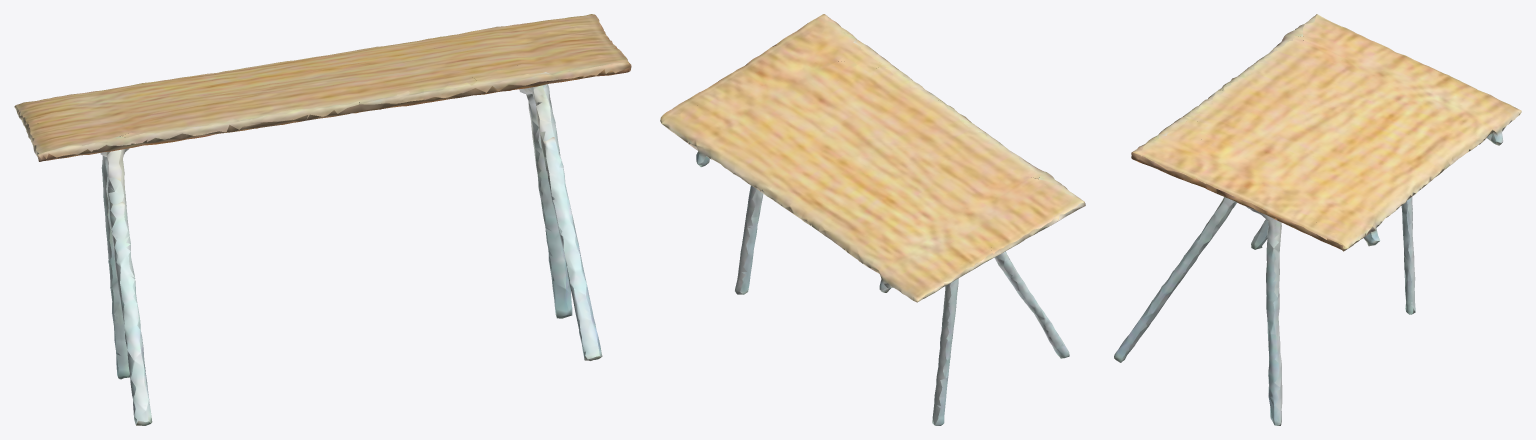
3 views of the same model, side by side, from view 1: azimuth 30°, elevation 25°; view 2: azimuth 150°, elevation 25°; view 3: azimuth 270°, elevation 25° (orthographic). The views are drawn at different scales.
Parts seen in each view (by area): view 1: world; view 2: world; view 3: world.
Boxes of the visible parts, x1=… form: world: x1=14, y1=14, x2=631, y2=425; world: x1=660, y1=14, x2=1085, y2=425; world: x1=1114, y1=14, x2=1521, y2=425.
Size of the model in its own units: 1.01 by 0.6096 by 0.7765.
1 material, 1 textured.
